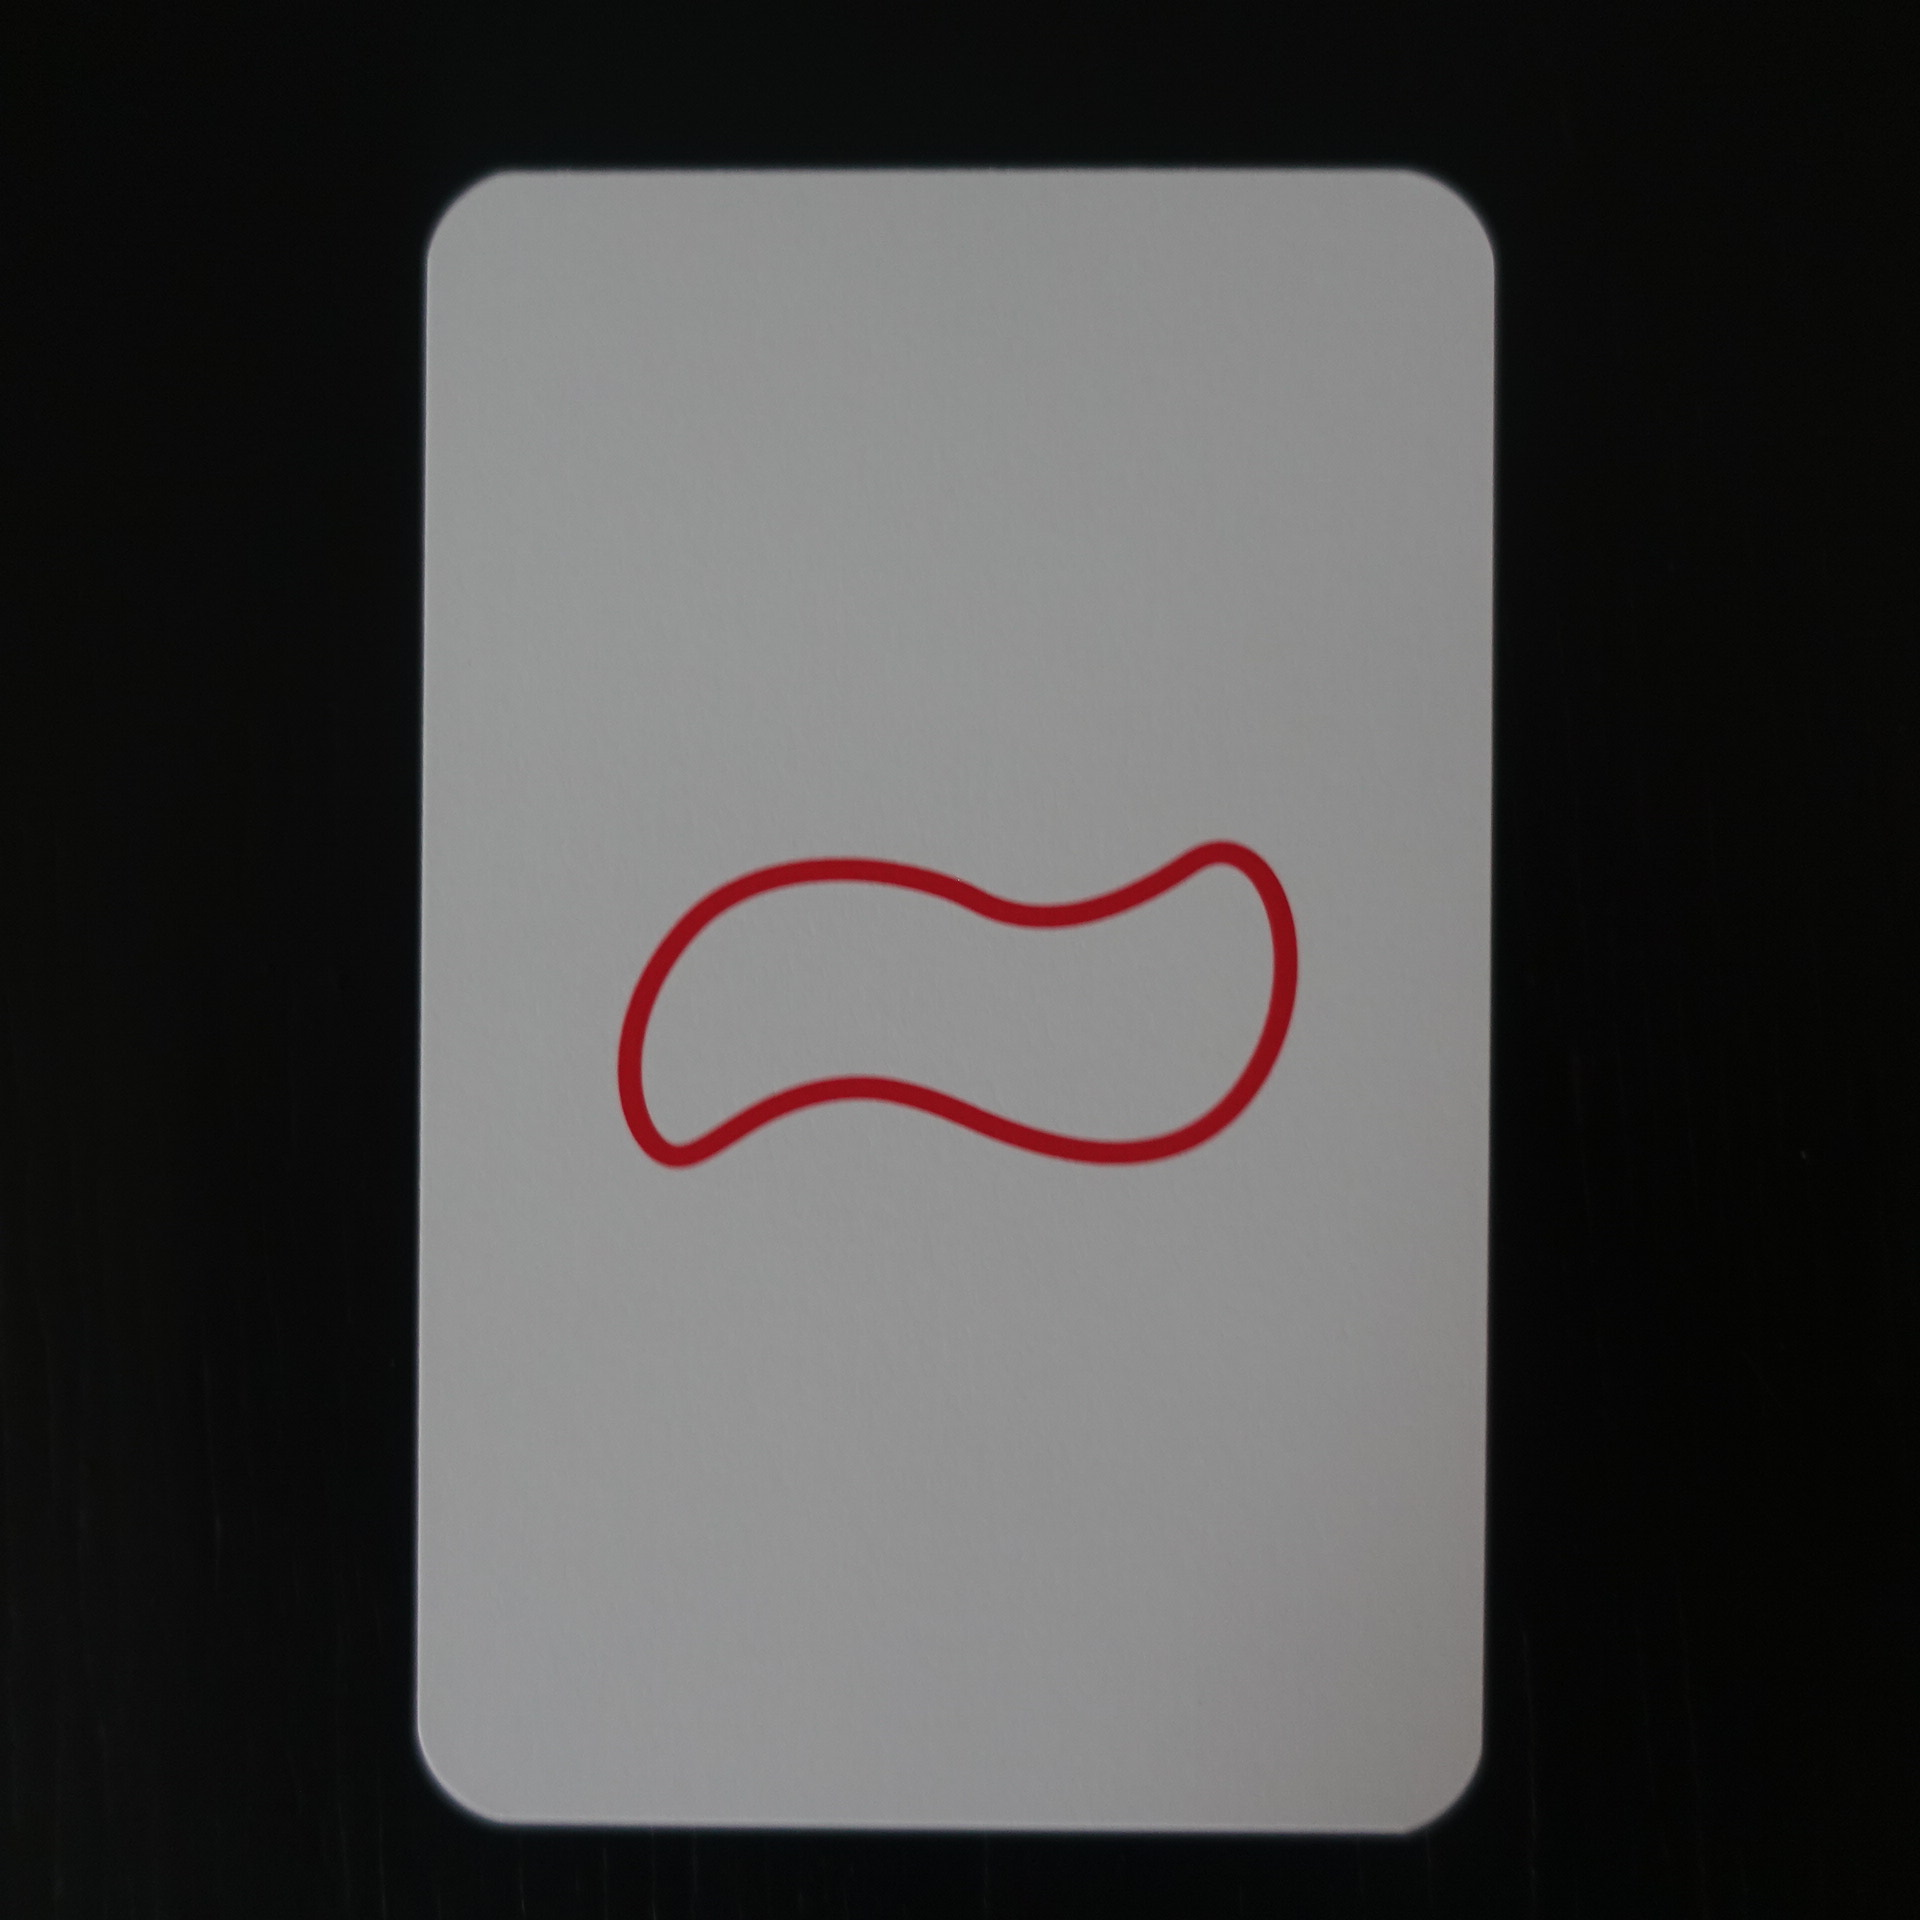c-1-u-s-r: (383, 149, 1516, 1865)
